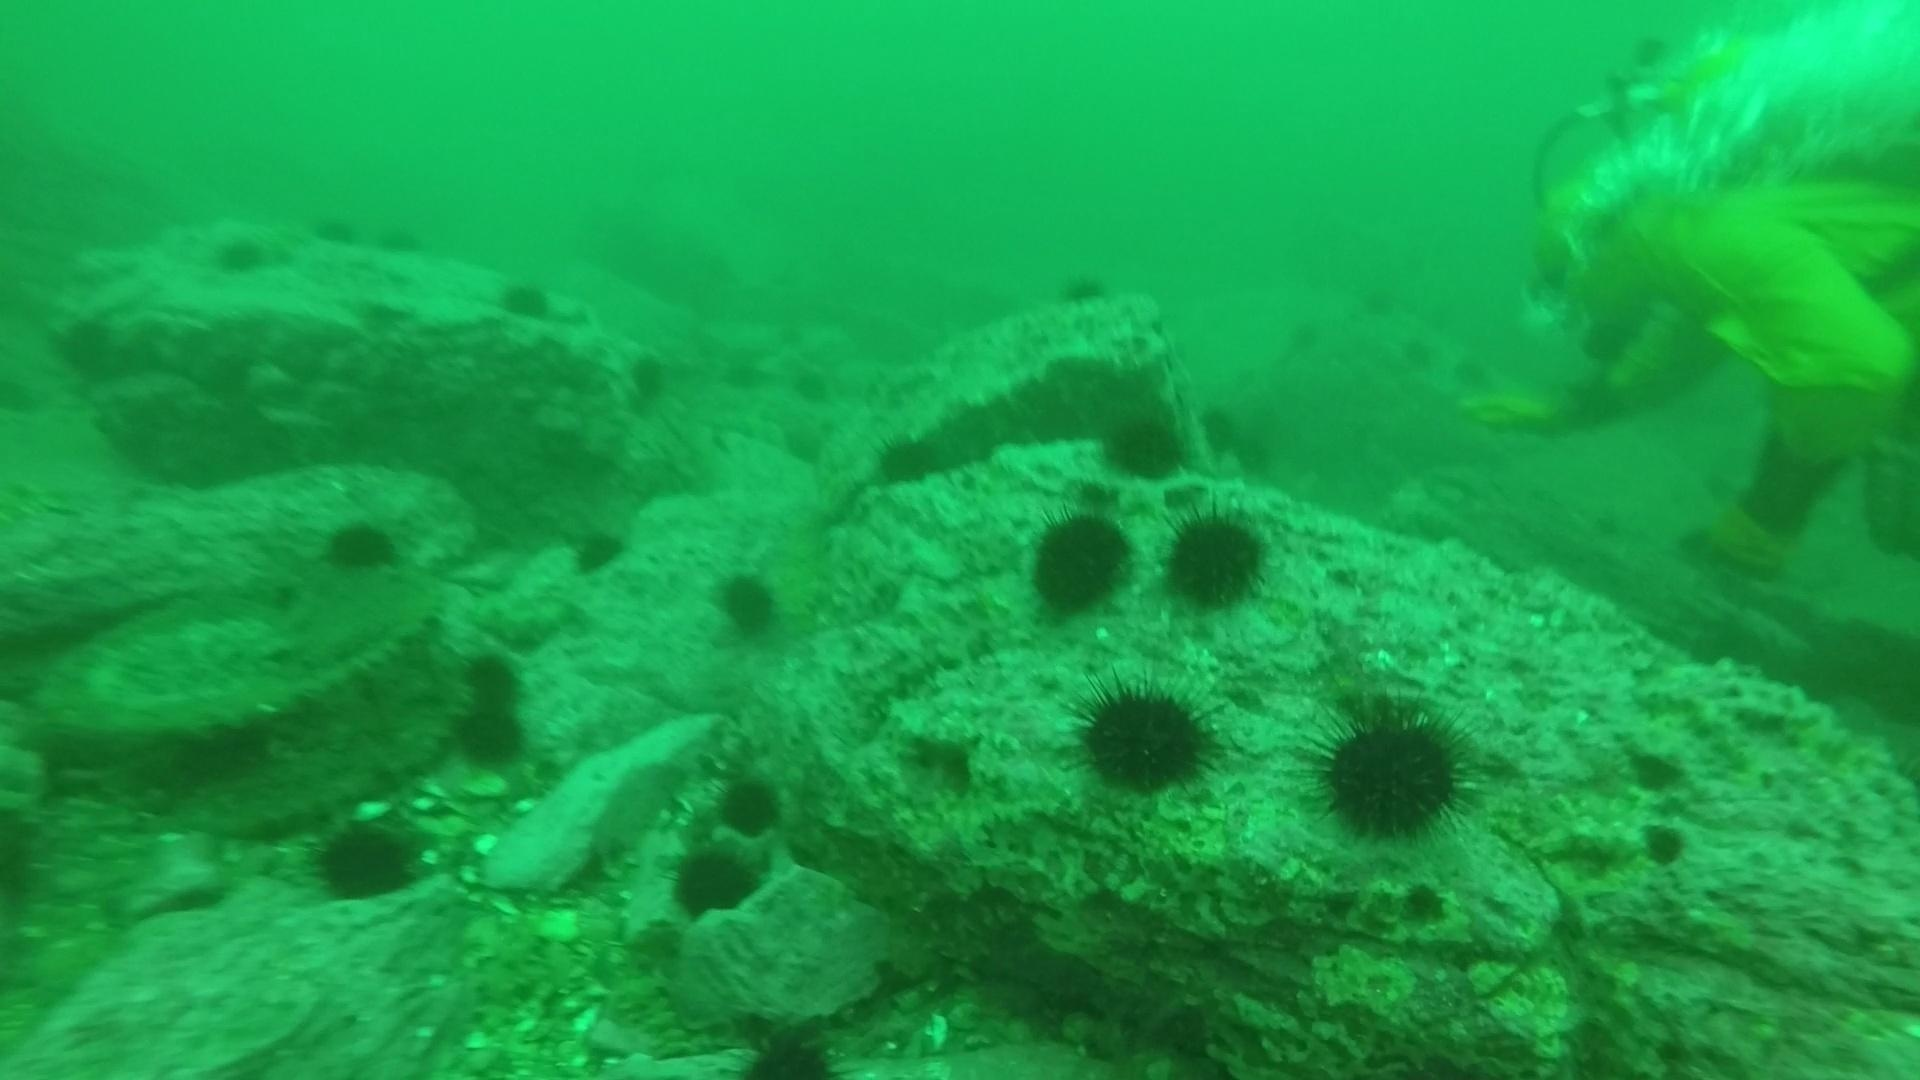echinus: (1304, 694, 1478, 847), (1068, 673, 1222, 800), (1158, 501, 1275, 616), (1022, 505, 1135, 622), (306, 814, 427, 906), (665, 839, 766, 924), (1097, 406, 1193, 487), (444, 698, 526, 775), (446, 636, 527, 713), (737, 1018, 843, 1077), (708, 564, 786, 644), (711, 770, 787, 843), (318, 514, 404, 579), (870, 429, 949, 495), (564, 522, 630, 580), (625, 351, 683, 406), (495, 274, 556, 326), (1191, 393, 1241, 455), (1230, 422, 1280, 484), (210, 231, 270, 281), (309, 208, 367, 255), (373, 219, 430, 264), (715, 352, 765, 402), (785, 365, 835, 415), (1589, 505, 1623, 545), (1067, 268, 1101, 307), (1408, 336, 1443, 375), (1449, 348, 1484, 386), (1294, 318, 1325, 355), (1370, 277, 1402, 314)
